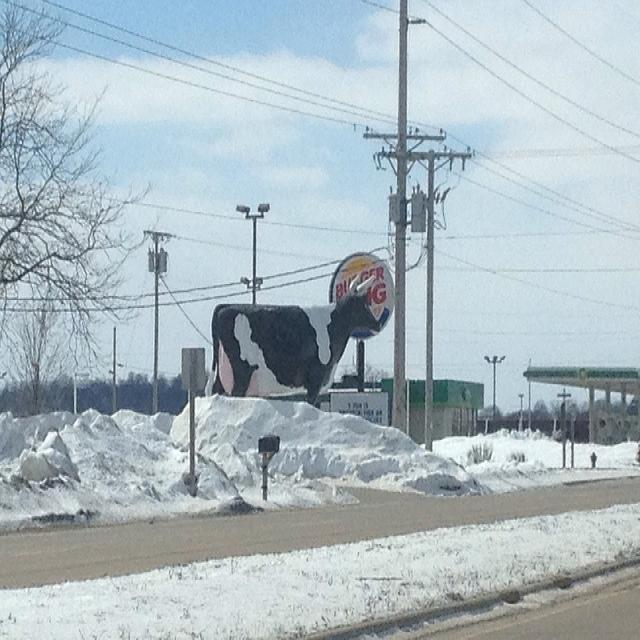fire_hydrant: (588, 449, 596, 467)
pole: (386, 2, 412, 430), (422, 146, 437, 450), (184, 345, 196, 484)
